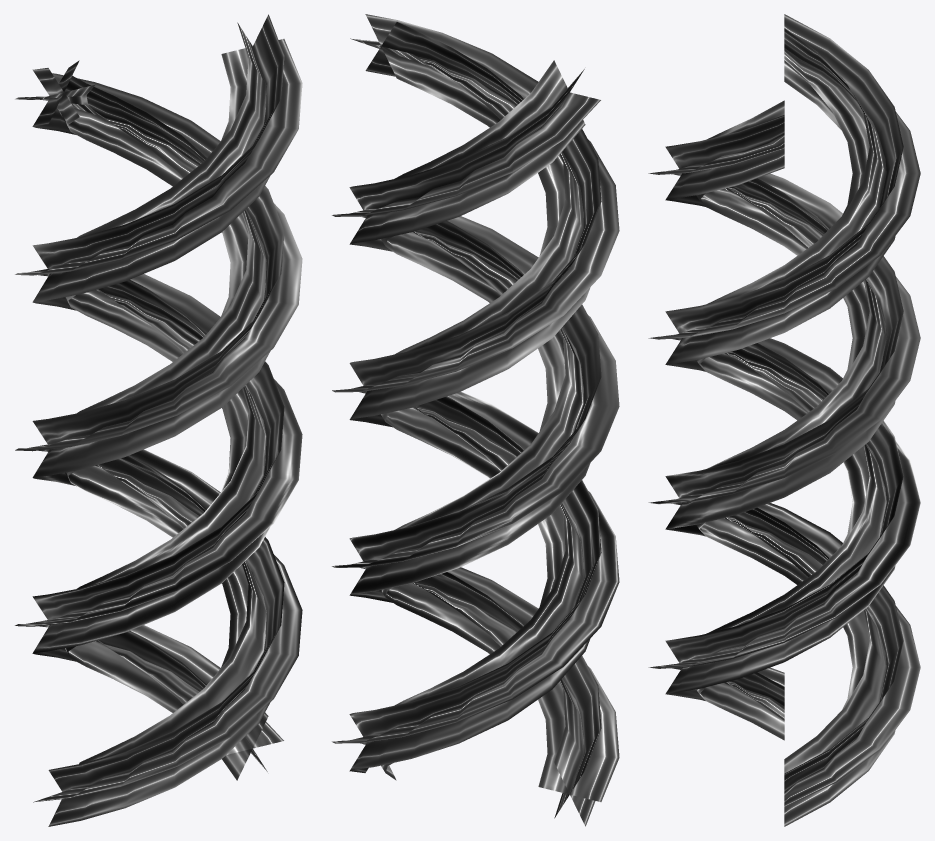
Rendered from eff_Helix01.fbx.
3 renders of one model, left to right at view 1: azimuth 30°, elevation 25°; view 2: azimuth 150°, elevation 25°; view 3: azimuth 270°, elevation 25°, orthographic. The views are drawn at different scales.
Parts seen in each view (by area): view 1: eff_Helix01_msh; view 2: eff_Helix01_msh; view 3: eff_Helix01_msh.
Part boxes in pixels (box(x1,y1,x2,y2)): eff_Helix01_msh: box(15, 14, 302, 826); eff_Helix01_msh: box(332, 14, 619, 826); eff_Helix01_msh: box(648, 14, 920, 826).
Size of the model in its own units: 12 by 34.6 by 12.
